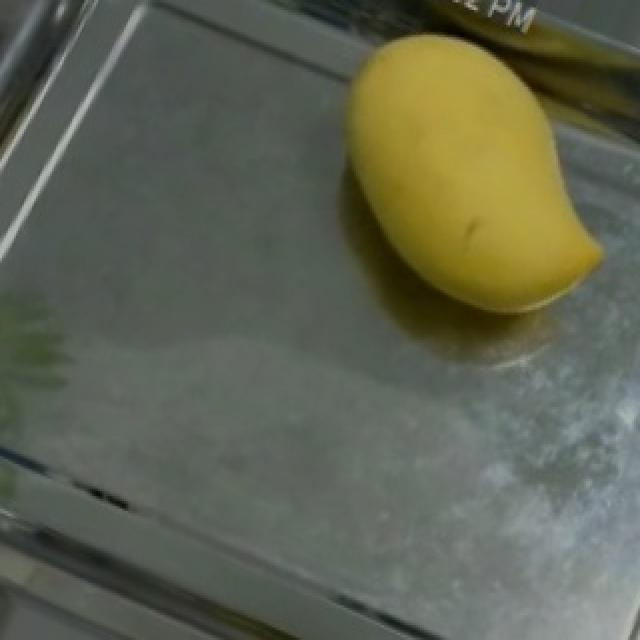fruit: (296, 8, 640, 360)
